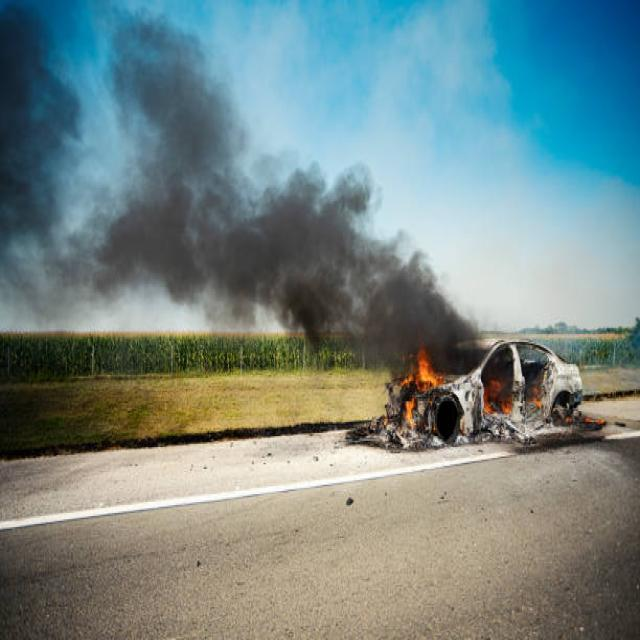Fire: (396, 345, 442, 423), (483, 377, 512, 415)
Smoke: (0, 2, 473, 361)
